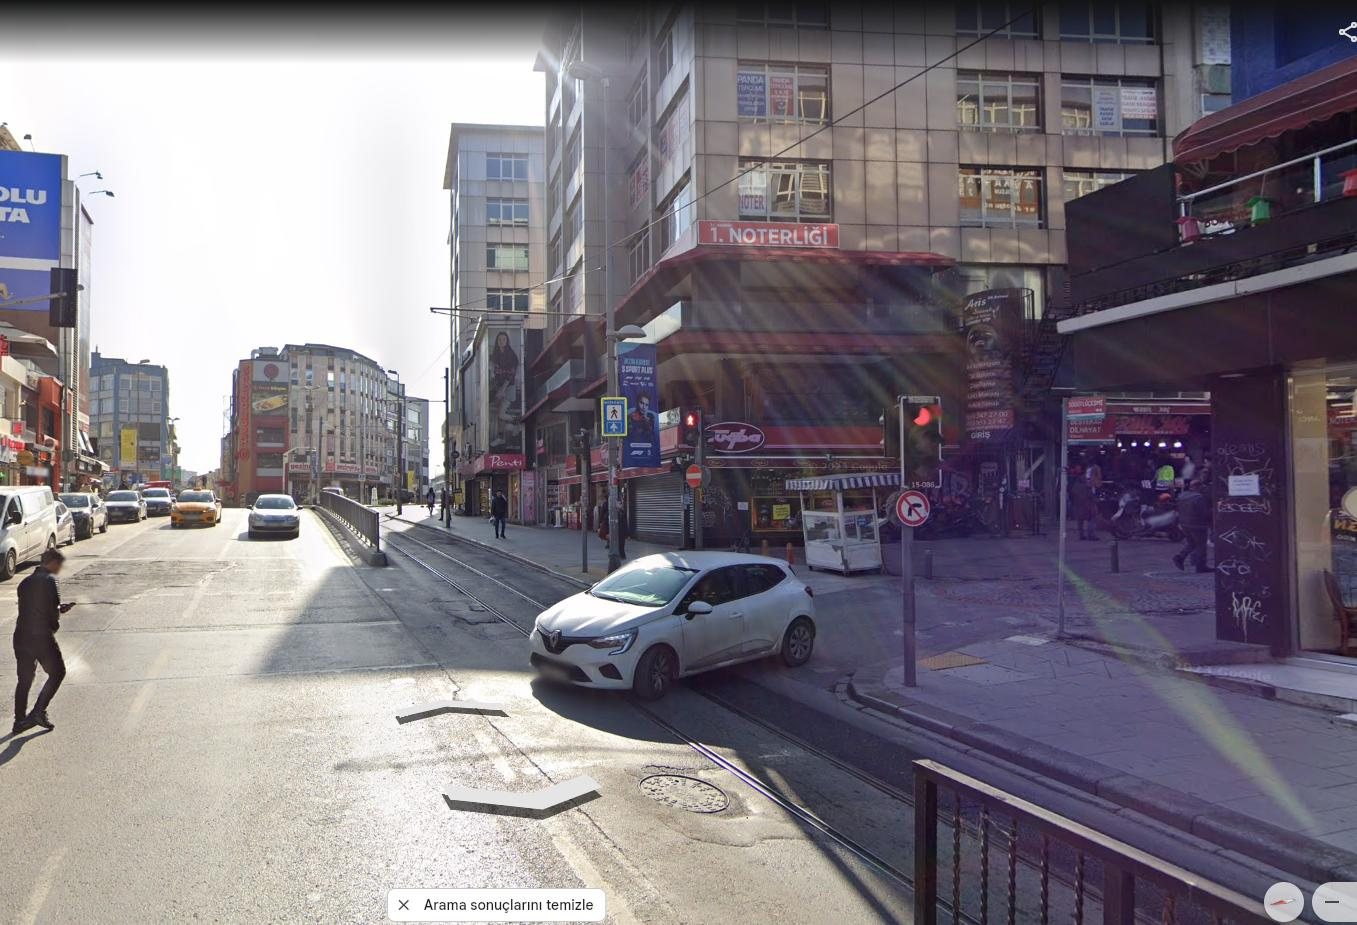redlight: (897, 396, 944, 484)
rightturnsareforbidden: (895, 490, 929, 525)
